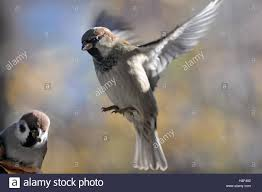hsparrow: (74, 1, 235, 172), (1, 107, 59, 172)
